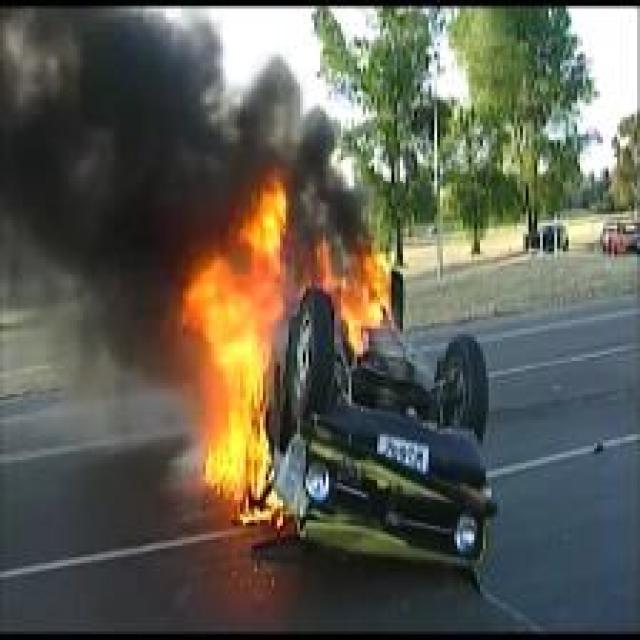Fire: (182, 175, 298, 530), (317, 241, 392, 356)
